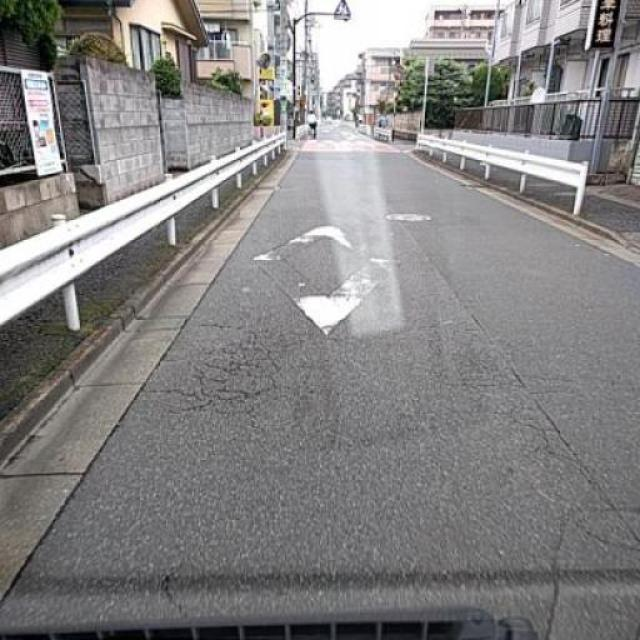Guard rail: (0, 121, 292, 392)
